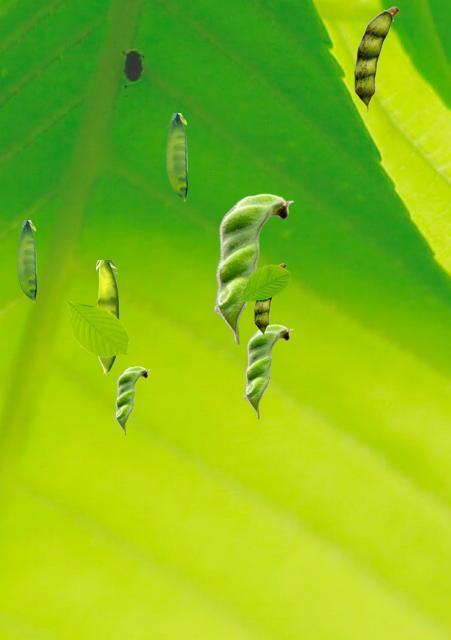pea: (213, 193, 293, 344), (354, 6, 398, 112), (243, 324, 292, 418), (96, 260, 118, 373), (114, 366, 149, 434), (254, 263, 285, 337), (166, 113, 186, 200), (17, 220, 35, 301)
